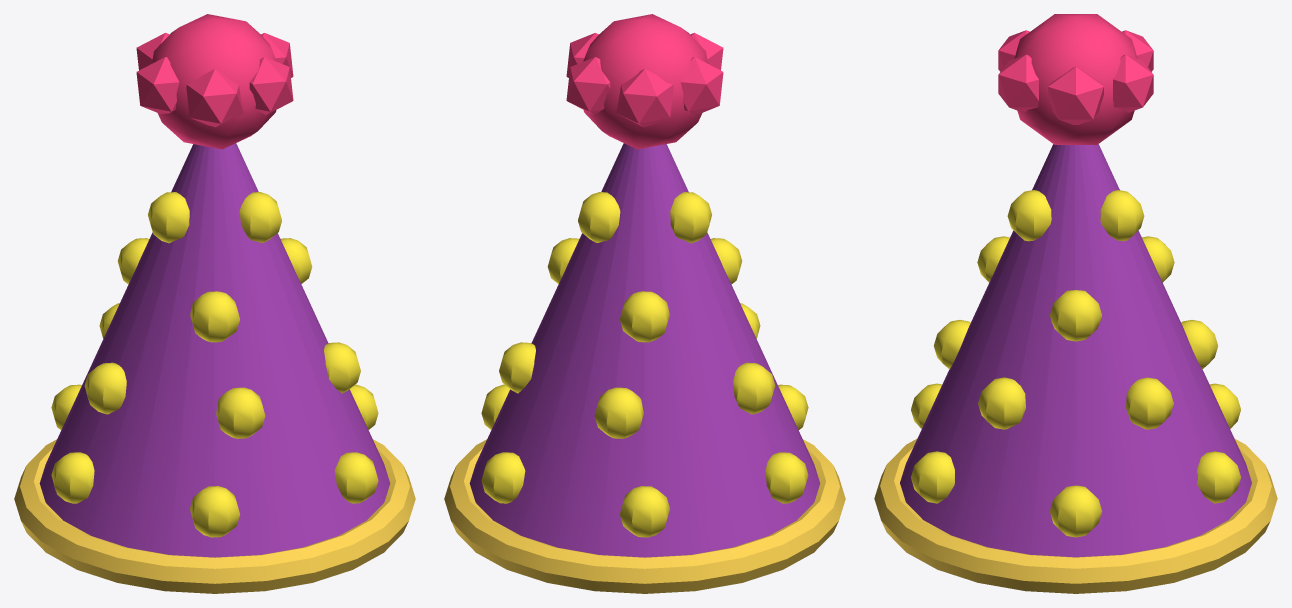
Rendered from meta_purim_hat.glb.
The picture shows the model from 3 angles, left to right: view 1: azimuth 30°, elevation 25°; view 2: azimuth 150°, elevation 25°; view 3: azimuth 270°, elevation 25°; orthographic projection.
Visible parts, largest first — view 1: MetaPurimHat_body; view 2: MetaPurimHat_body; view 3: MetaPurimHat_body.
Part boxes in pixels (x1,y1,x2,y2): MetaPurimHat_body: [14, 14, 415, 593]; MetaPurimHat_body: [444, 14, 845, 593]; MetaPurimHat_body: [874, 14, 1277, 593].
Bounding box in the file's own units: 0.246 × 0.336 × 0.246.
